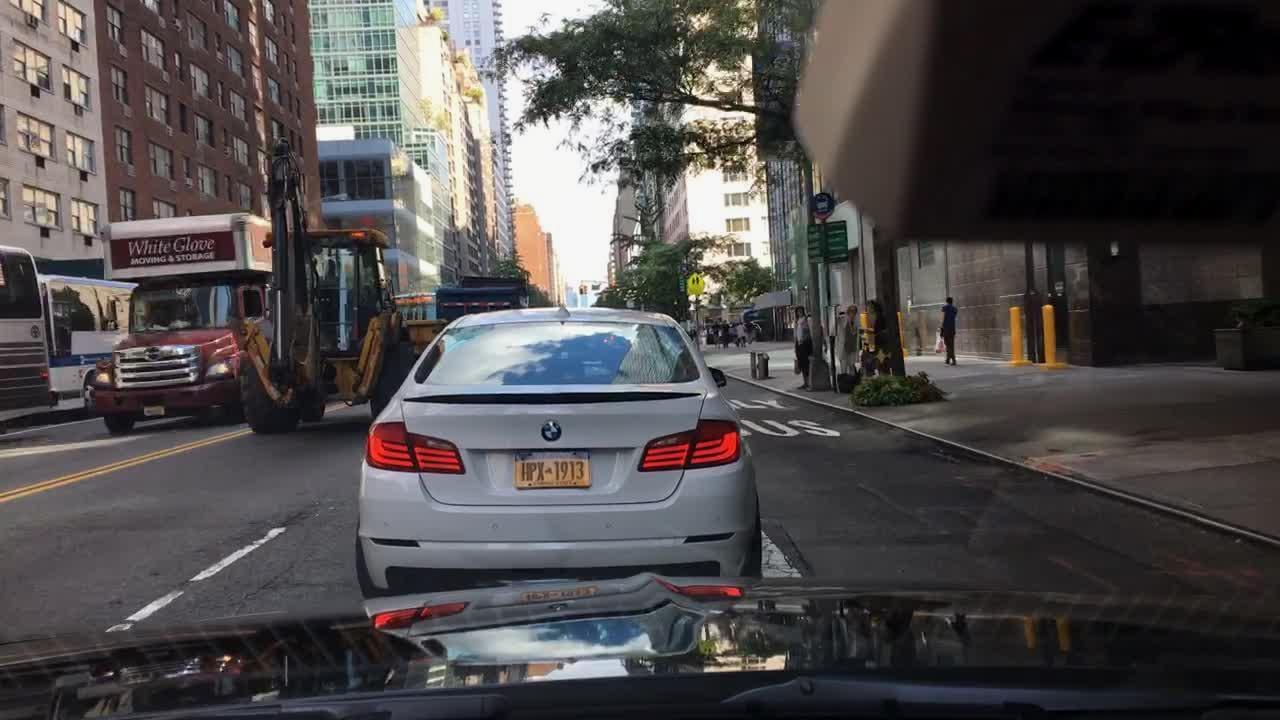bmw: (541, 417, 568, 446)
